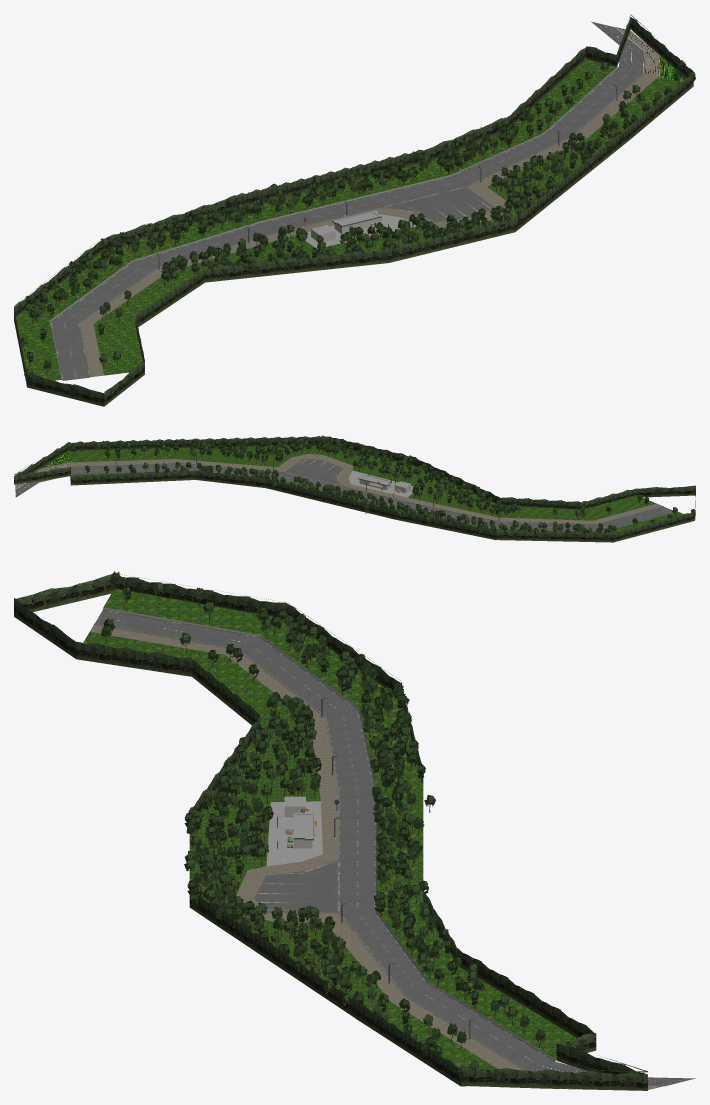
File: shkvark_bulk.fbx
3 renders of one model, top to bottom at view 1: azimuth 30°, elevation 25°; view 2: azimuth 150°, elevation 25°; view 3: azimuth 270°, elevation 25°, orthographic. The views are drawn at different scales.
Visible parts, largest first — view 1: Plane.031, Plane, Plane.010, Plane.015, Plane.001; view 2: Plane.015, Plane.031, Plane, Plane.010, Plane.001; view 3: Plane.031, Plane, Plane.010, Plane.015, Plane.001.
Boxes of the visible parts, x1,y1,x2,y2 form: Plane.031: [19, 60, 695, 378]; Plane: [50, 21, 659, 380]; Plane.010: [16, 55, 685, 380]; Plane.015: [14, 14, 693, 406]; Plane.001: [332, 210, 381, 233]; Plane.015: [14, 436, 695, 542]; Plane.031: [56, 435, 695, 536]; Plane: [15, 453, 672, 531]; Plane.010: [40, 445, 683, 533]; Plane.001: [358, 475, 391, 490]; Plane.031: [101, 571, 546, 1086]; Plane: [89, 607, 695, 1089]; Plane.010: [83, 588, 588, 1088]; Plane.015: [14, 574, 647, 1090]; Plane.001: [293, 812, 315, 848].
Bounding box in the file's own units: 32151 × 991 × 18177.
Materials: 77 (75 with a texture image).
